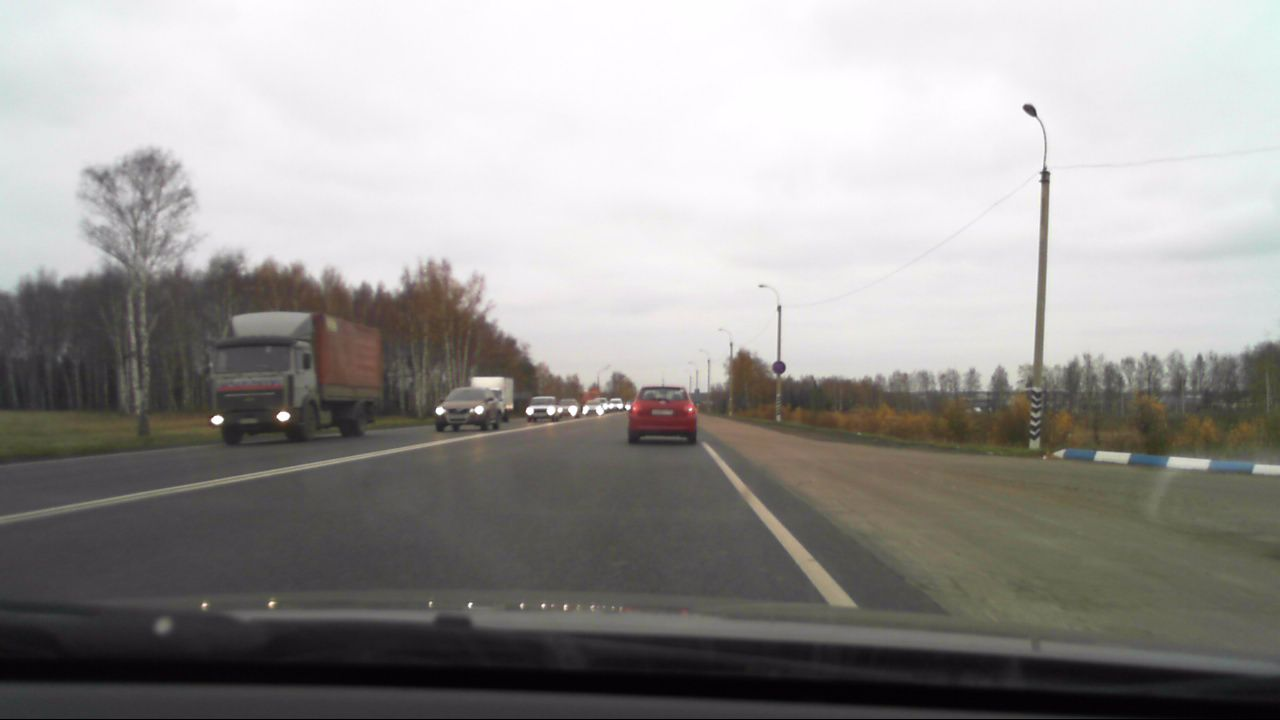No Parking: (769, 356, 788, 374)
